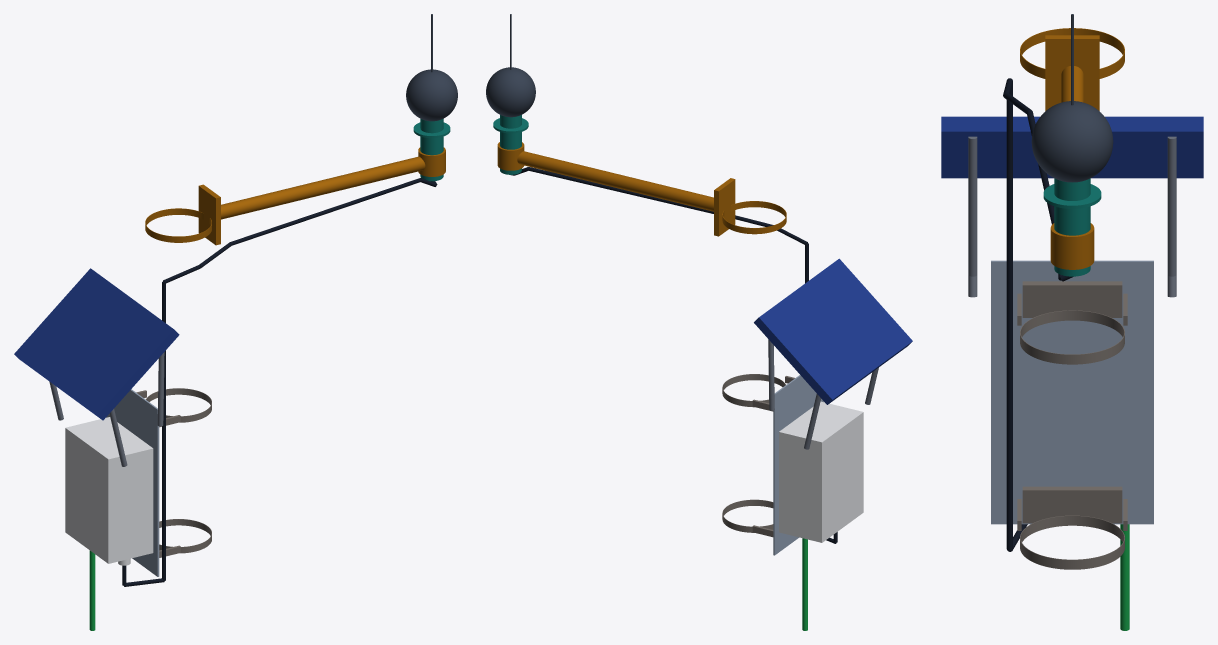
3 renders of one model, left to right at view 1: azimuth 30°, elevation 25°; view 2: azimuth 150°, elevation 25°; view 3: azimuth 270°, elevation 25°, orthographic. The views are drawn at different scales.
Parts seen in each view (by area): view 1: Solar panel, 6 W, FieldNode enclosure, IP65, Microphone arm and saddle clamp, FieldNode back plate, Sensor cable, M12, Foam windscreen and bird spike, Street pole adapter, V-blocks and bands, Microphone head housing, ASA, Panel tilt bracket; view 2: Solar panel, 6 W, FieldNode enclosure, IP65, Microphone arm and saddle clamp, FieldNode back plate, Foam windscreen and bird spike, Street pole adapter, V-blocks and bands, Sensor cable, M12, Panel tilt bracket, Microphone head housing, ASA; view 3: FieldNode back plate, Street pole adapter, V-blocks and bands, Solar panel, 6 W, Microphone arm and saddle clamp, Foam windscreen and bird spike, Sensor cable, M12, Panel tilt bracket, Microphone head housing, ASA, FieldNode power and radio board.
Part boxes in pixels (x1,y1,x2,y2): Solar panel, 6 W: (14,268,179,420); FieldNode enclosure, IP65: (65,417,153,565); Microphone arm and saddle clamp: (145,147,445,245); FieldNode back plate: (106,389,159,576); Sensor cable, M12: (122,178,437,586); Foam windscreen and bird spike: (406,14,457,121); Street pole adapter, V-blocks and bands: (136,388,211,557); Microphone head housing, ASA: (413,118,450,181); Panel tilt bracket: (49,352,164,466); Solar panel, 6 W: (754,258,912,404); FieldNode enclosure, IP65: (779,401,863,542); Microphone arm and saddle clamp: (497,142,786,236); FieldNode back plate: (773,375,824,555); Foam windscreen and bird spike: (486,14,535,117); Street pole adapter, V-blocks and bands: (722,374,794,537); Sensor cable, M12: (511,167,837,543); Panel tilt bracket: (768,339,878,449); Microphone head housing, ASA: (493,115,528,174); FieldNode back plate: (991,260,1153,524); Street pole adapter, V-blocks and bands: (1017,281,1127,569); Solar panel, 6 W: (941,116,1203,178); Microphone arm and saddle clamp: (1020,28,1124,269); Foam windscreen and bird spike: (1031,14,1113,182); Sensor cable, M12: (1003,78,1073,551); Panel tilt bracket: (968,136,1176,297); Microphone head housing, ASA: (1043,178,1101,276); FieldNode power and radio board: (1120,524,1129,630).
Bounding box in the file's own units: 0.798 × 1.05 × 0.29.
